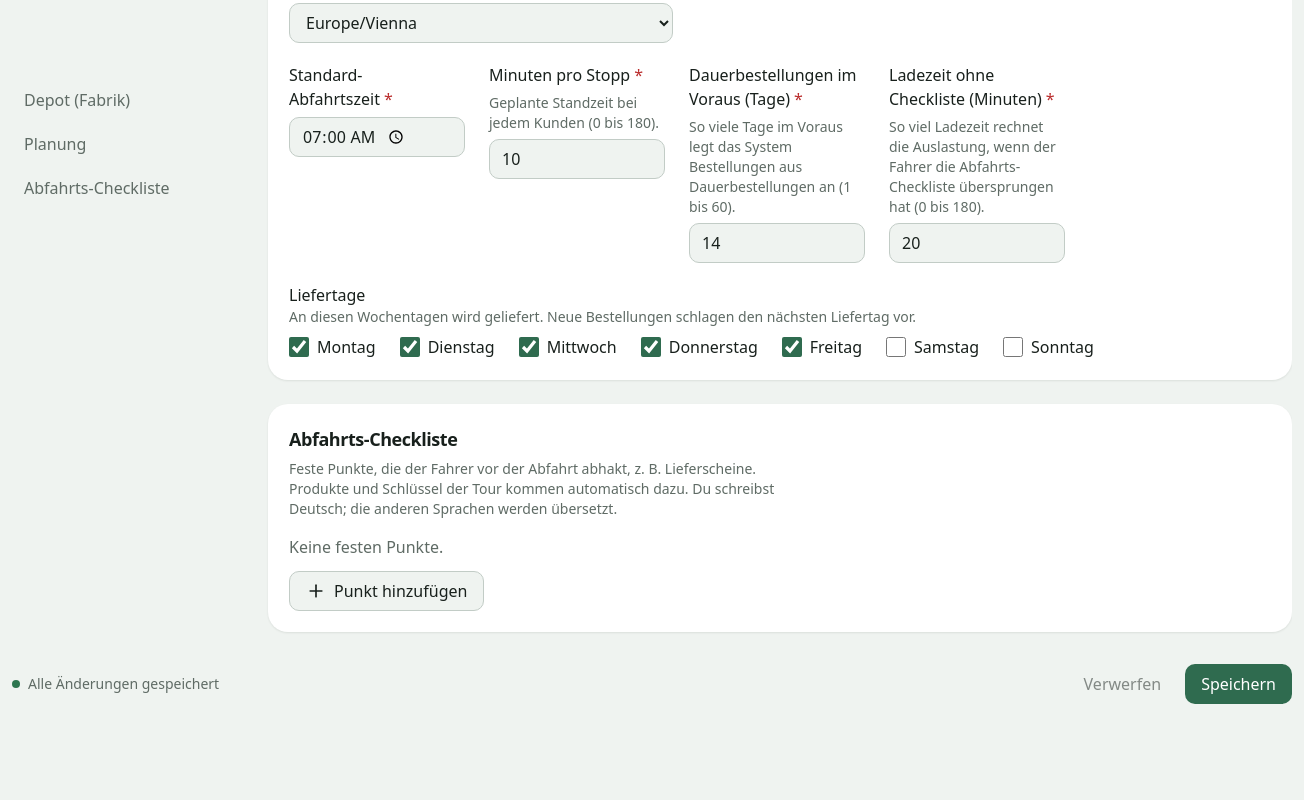
Scenario: SettingsForm › refuses to save until the pin is confirmed, with the localized message
(page scrolled)
Click the button with test id "settings-save". click: click(1239, 684)
box: left=1185, top=664, right=1292, bottom=704
(page scrolled)
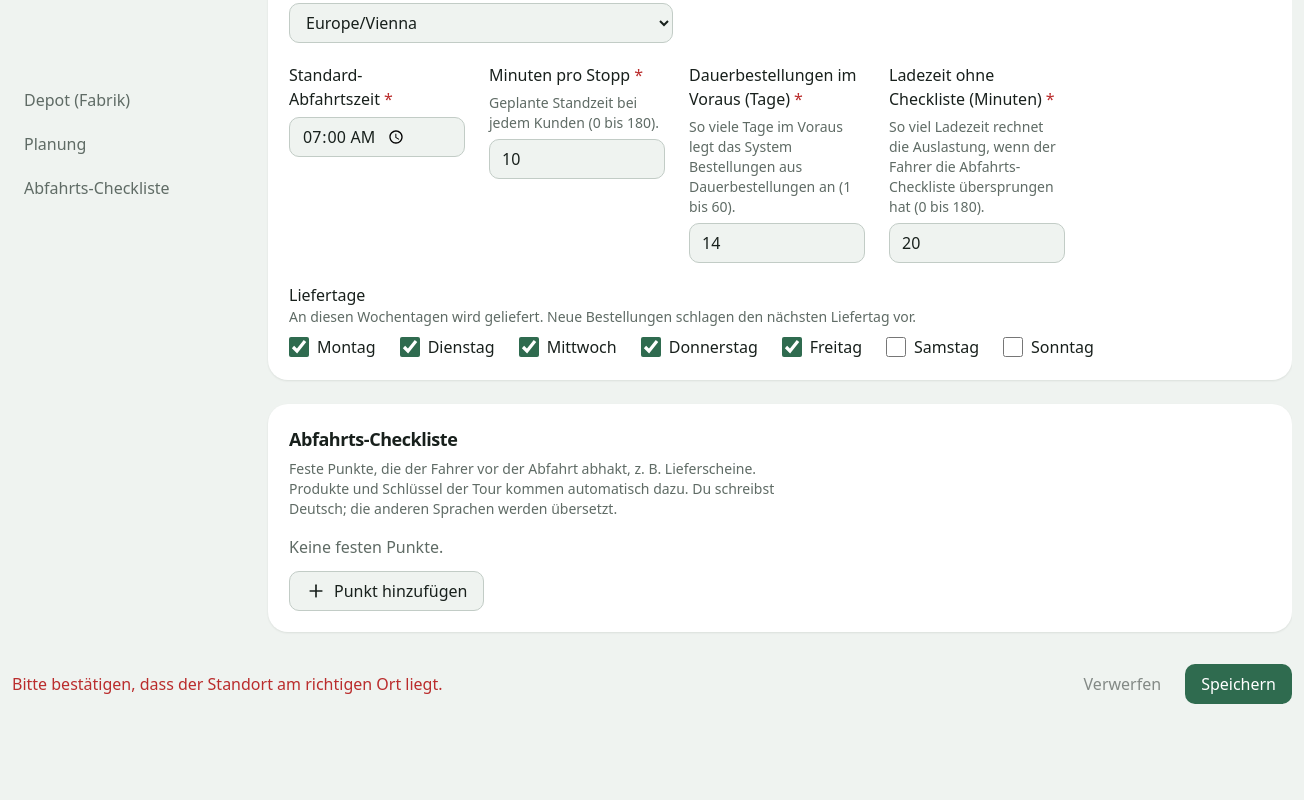
Check: the message with test id "settings-error" reads "Bitte bestätigen, dass der Standort am richtigen Ort liegt.", box left=12, top=673, right=442, bottom=695
